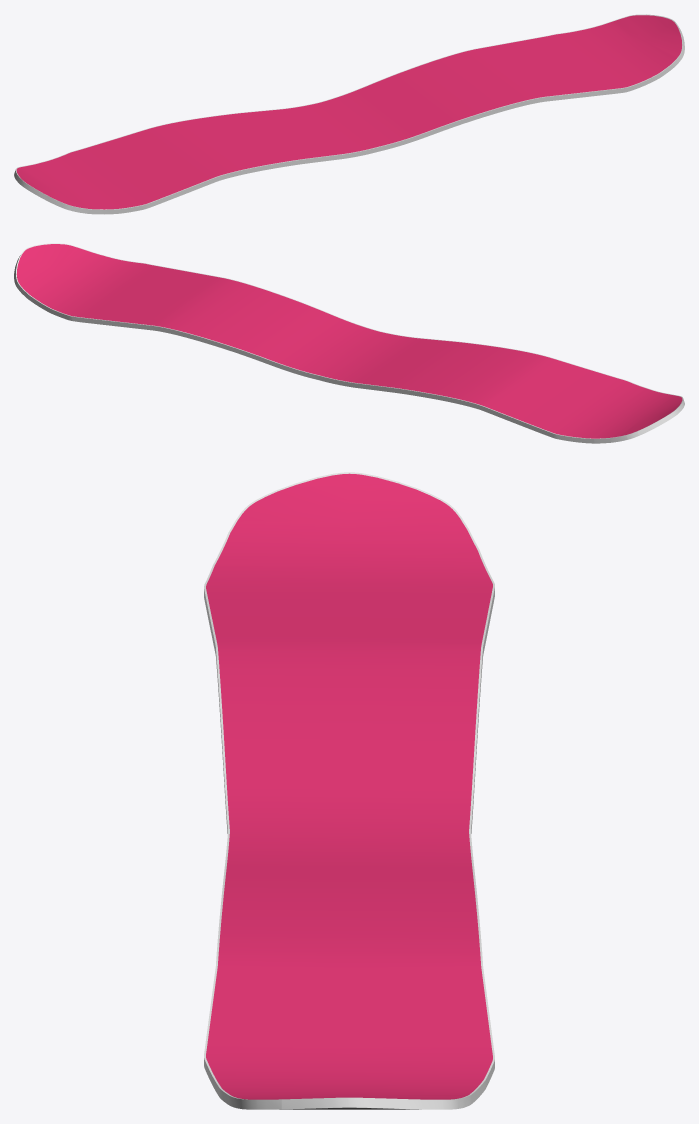
The model's file is board_twin-tip-2_hybrid-rocker.gltf.
3 renders of one model, top to bottom at view 1: azimuth 30°, elevation 25°; view 2: azimuth 150°, elevation 25°; view 3: azimuth 270°, elevation 25°, orthographic. The views are drawn at different scales.
Parts seen in each view (by area): view 1: board-top, board-edge; view 2: board-top, board-edge; view 3: board-top, board-edge.
Part boxes in pixels (x1=…): board-top: x1=16, y1=15, x2=681, y2=209; board-edge: x1=14, y1=14, x2=684, y2=214; board-top: x1=16, y1=244, x2=682, y2=438; board-edge: x1=14, y1=243, x2=684, y2=443; board-top: x1=206, y1=473, x2=492, y2=1099; board-edge: x1=204, y1=472, x2=494, y2=1109.
Size of the model in its own units: 1.51 by 0.0658 by 0.2923.
